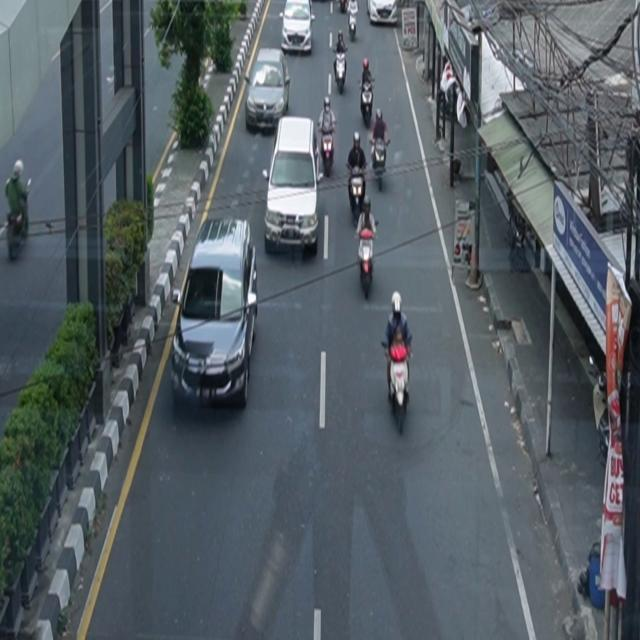car: (171, 217, 259, 411), (263, 117, 325, 257), (245, 48, 291, 135), (280, 1, 316, 56), (367, 1, 398, 26)
